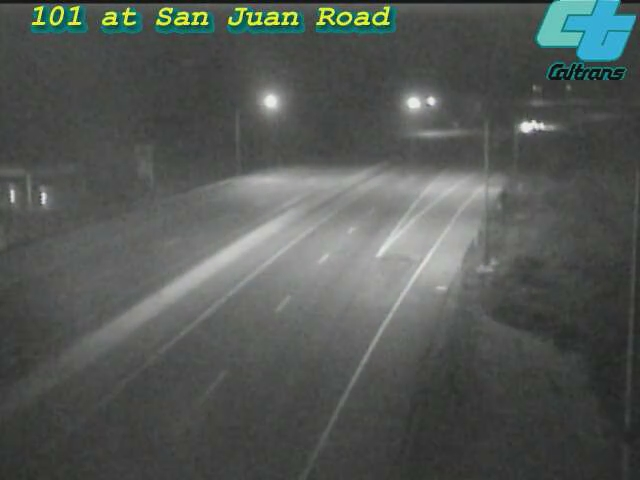vehicle: (516, 100, 566, 150), (499, 102, 549, 152)
